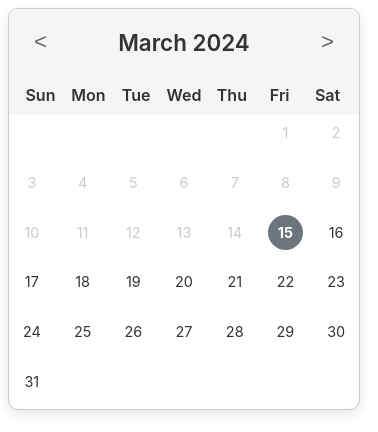
Scenario: Calendar Component › navigates to next month
Click the button ">" at [327, 42], box 311,24 -> 344,60
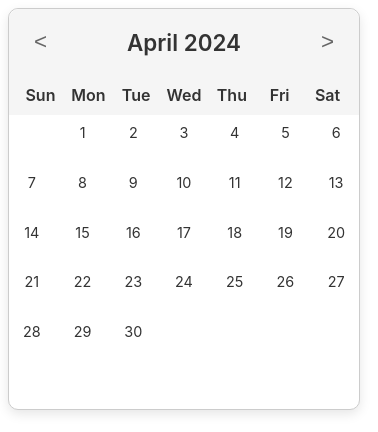
Expected: the heading "April 2024" is shown, 127,28 -> 241,56
